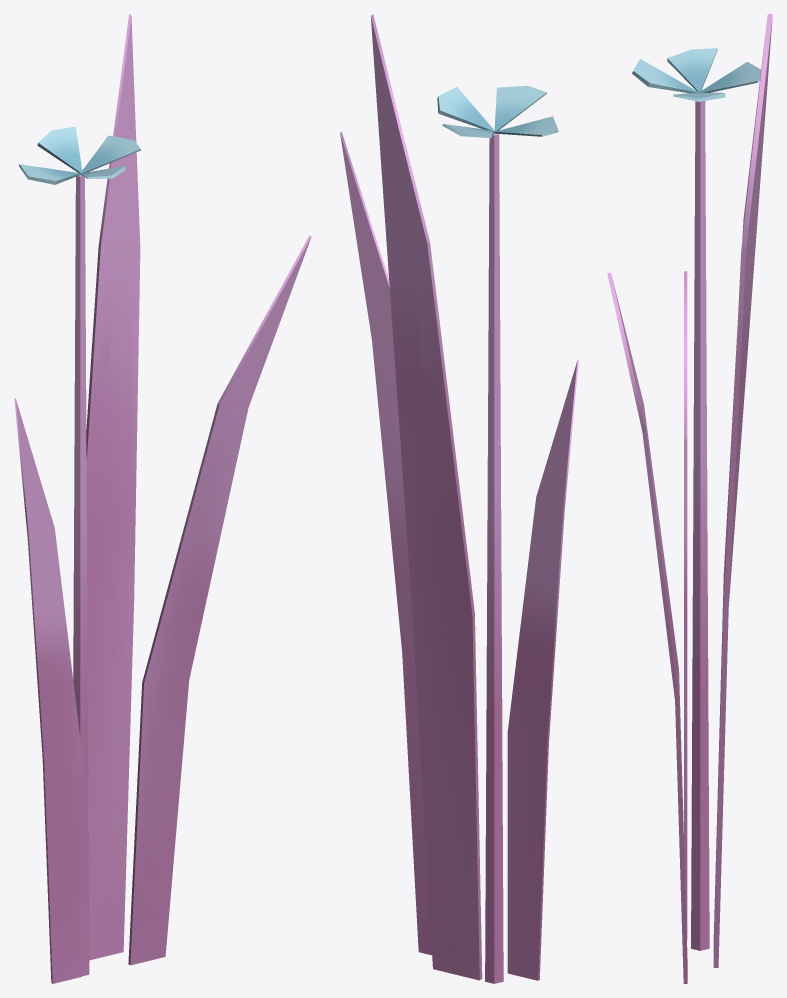
The model's file is GrassPatch_Wiese_Pink.fbx.
The picture shows the model from 3 angles, left to right: view 1: azimuth 30°, elevation 25°; view 2: azimuth 150°, elevation 25°; view 3: azimuth 270°, elevation 25°; orthographic projection. The views are drawn at different scales.
Parts seen in each view (by area): view 1: GrassPatchGeo; view 2: GrassPatchGeo; view 3: GrassPatchGeo.
Part boxes in pixels (x1=…): GrassPatchGeo: x1=14, y1=14, x2=311, y2=983; GrassPatchGeo: x1=340, y1=14, x2=578, y2=983; GrassPatchGeo: x1=607, y1=14, x2=772, y2=983.
Bounding box in the file's own units: 23.1 × 77.63 × 11.95.
